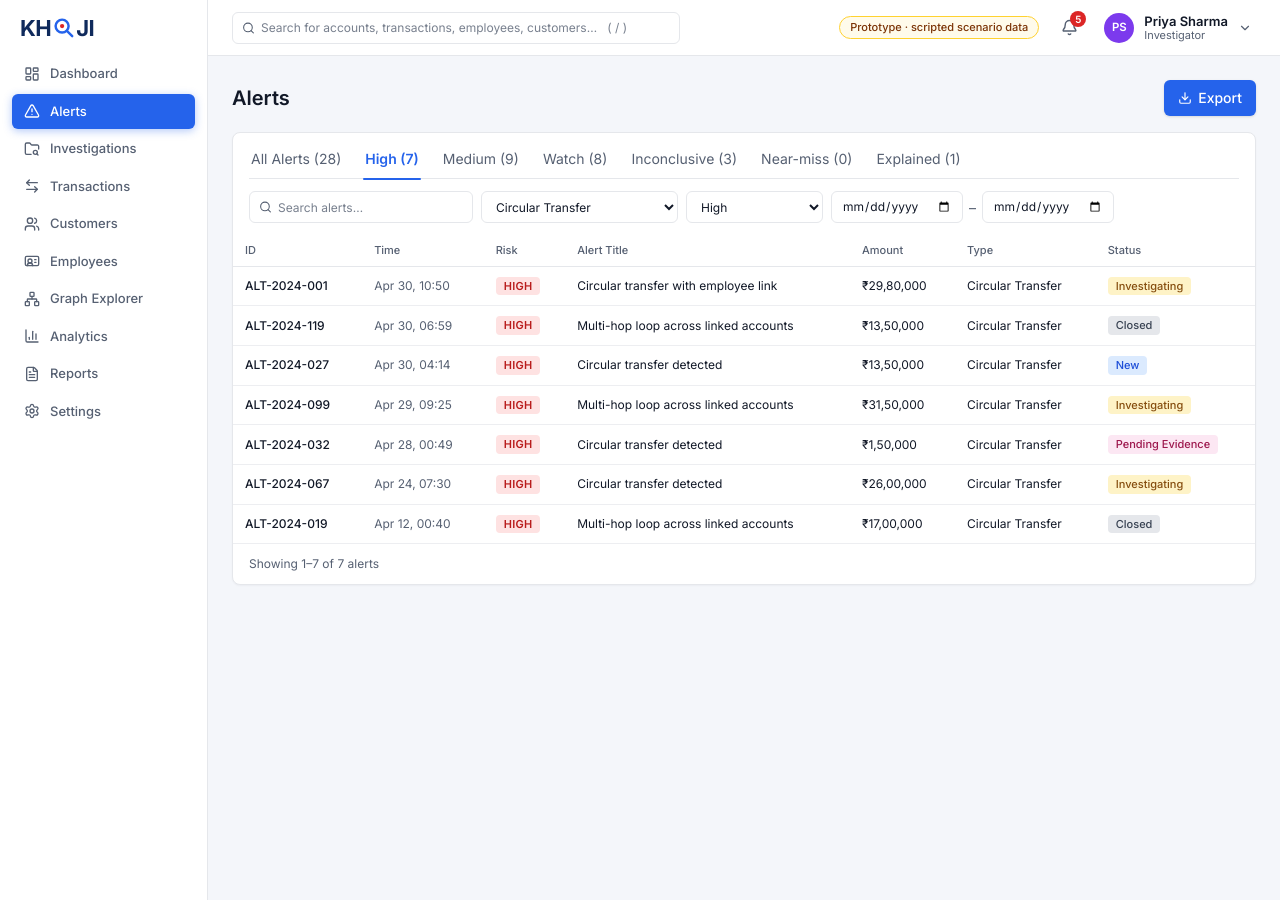
Alerts list › combines filters as an intersection
Type "ALT-2024-001" into the search field labelled "Search alerts" at (361, 207), box x1=249 y1=191 x2=473 y2=223
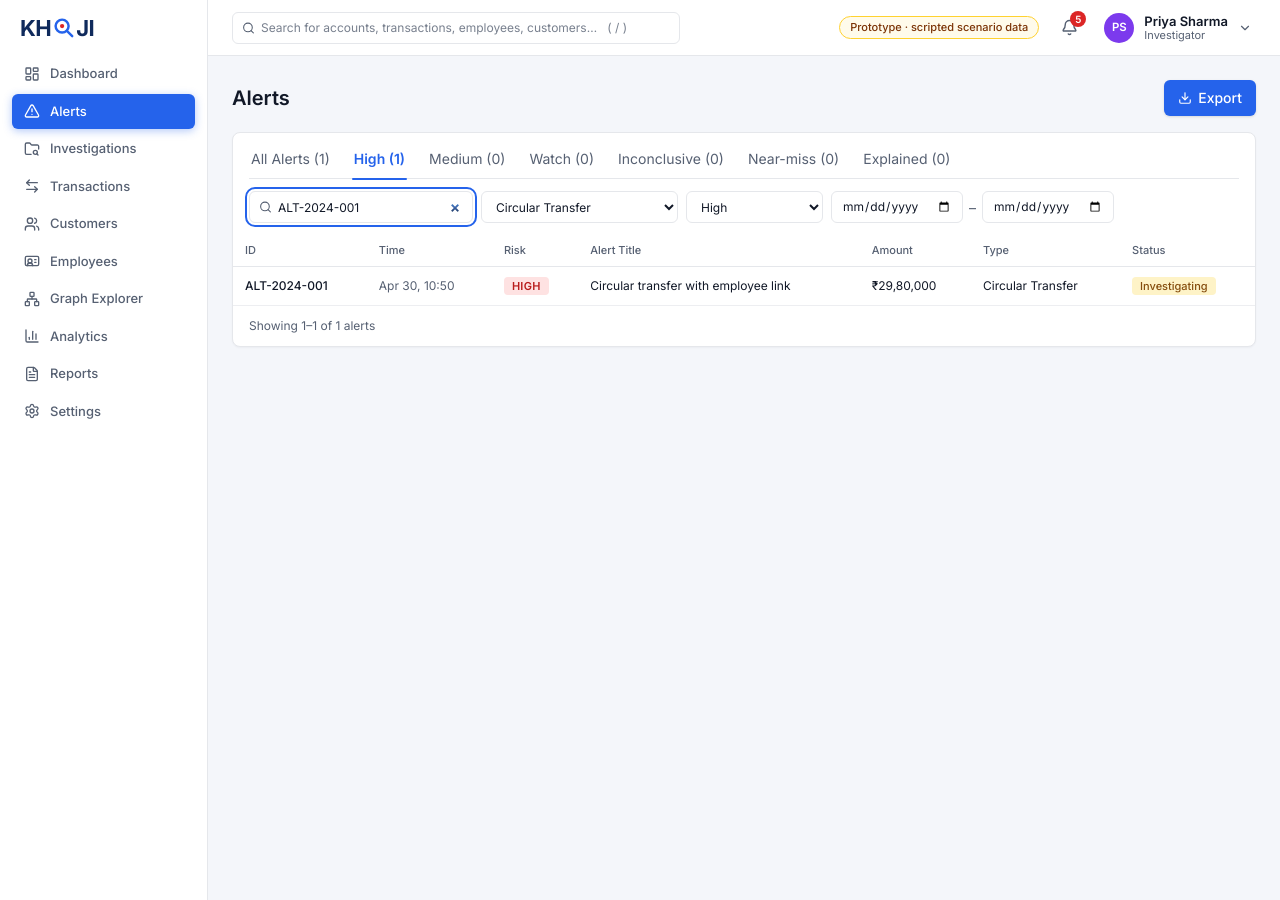
Expected: the text with test id "showing" shows "of 1 alerts", x1=249 y1=318 x2=375 y2=333
